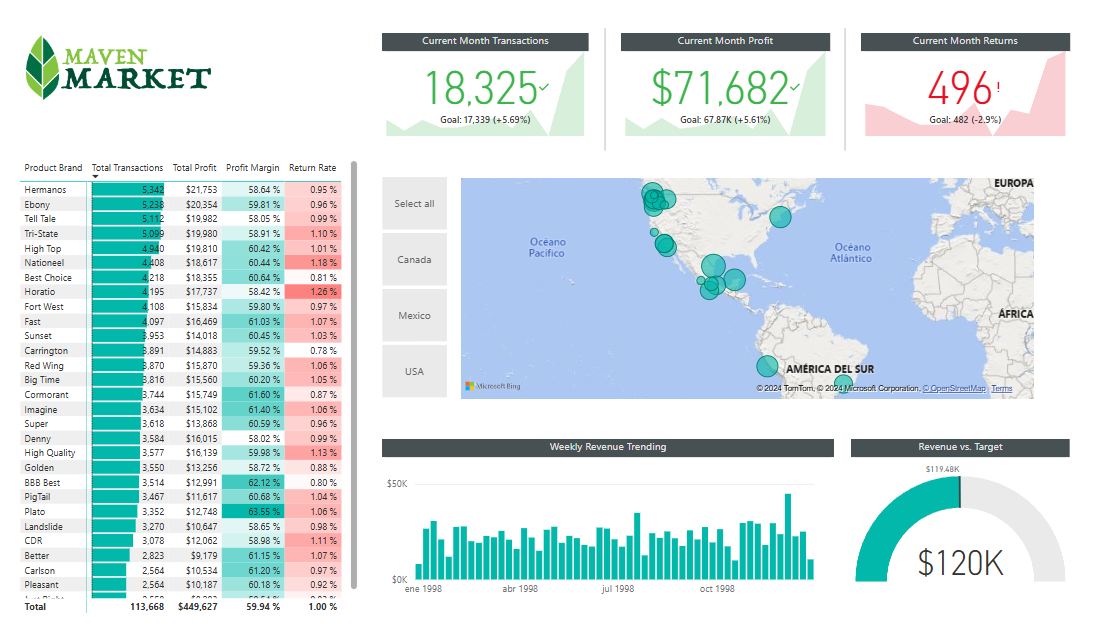

What the dashboard file says about the page in this screenshot:
{"tool":"powerbi","page":{"name":"Topline Performance","canvas":[1280,720],"ordinal":0},"visuals":[{"type":"image","box":[21,10,236.4,95.8],"z":0},{"type":"pivotTable","fields":{"Values":["Transaction_Data.Total Transactions","Transaction_Data.Total Profit","Transaction_Data.Profit Margin","Return_Data.Return Rate"],"Rows":["Products.product_brand"]},"box":[20.6,161.3,401.5,536],"z":1000},{"type":"kpi","title":"Current Month Transactions","fields":{"TrendLine":["Calendar.Start of Month"],"Goal":["Transaction_Data.Last Month Transactions"],"Indicator":["Transaction_Data.Total Transactions"]},"box":[445.9,19,240.2,124.7],"z":2000},{"type":"kpi","title":"Current Month Profit","fields":{"TrendLine":["Calendar.Start of Month"],"Goal":["Transaction_Data.Last Month Profit"],"Indicator":["Transaction_Data.Total Profit"]},"box":[723.3,19,242.5,124.7],"z":3000},{"type":"kpi","title":"Current Month Returns","fields":{"TrendLine":["Calendar.Start of Month"],"Goal":["Return_Data.Last Month Returns"],"Indicator":["Return_Data.Total Returns"]},"box":[1003,19,242.5,124.7],"z":4000},{"type":"map","fields":{"Category":["Stores.store_city"],"Size":["Transaction_Data.Total Transactions"]},"box":[532.8,182.6,675.4,266.4],"z":5000},{"type":"slicer","fields":{"Values":["Stores.store_country"]},"box":[420.5,178.9,124.7,270],"z":6000},{"type":"columnChart","title":"Weekly Revenue Trending","fields":{"Category":["Calendar.Start of Week"],"Y":["Transaction_Data.Total Revenue"]},"box":[445.9,490,525.3,192.2],"z":7000},{"type":"gauge","title":"Revenue vs. Target","fields":{"Y":["Transaction_Data.Total Revenue"],"TargetValue":["Transaction_Data.Revenue Target"]},"box":[991.1,490,254.4,171.6],"z":8000},{"type":"basicShape","box":[671.7,2.9,67.5,161.3],"z":9000},{"type":"basicShape","box":[950.3,2.9,67.5,161.3],"z":10000}]}

Visuals, with their boxes in screenshot pixels (x1, y1, x2, y2), scaled from the page's 1280x720 canvas onto the 1099x636 screenshot:
image: [x1=18, y1=9, x2=221, y2=93]
pivotTable - Transaction_Data.Total Transactions x Transaction_Data.Total Profit: [x1=18, y1=142, x2=362, y2=616]
"Current Month Transactions" kpi: [x1=383, y1=17, x2=589, y2=127]
"Current Month Profit" kpi: [x1=621, y1=17, x2=829, y2=127]
"Current Month Returns" kpi: [x1=861, y1=17, x2=1069, y2=127]
map - Stores.store_city x Transaction_Data.Total Transactions: [x1=457, y1=161, x2=1037, y2=397]
slicer - Stores.store_country: [x1=361, y1=158, x2=468, y2=397]
"Weekly Revenue Trending" columnChart: [x1=383, y1=433, x2=834, y2=603]
"Revenue vs. Target" gauge: [x1=851, y1=433, x2=1069, y2=584]
basicShape: [x1=577, y1=3, x2=635, y2=145]
basicShape: [x1=816, y1=3, x2=874, y2=145]
